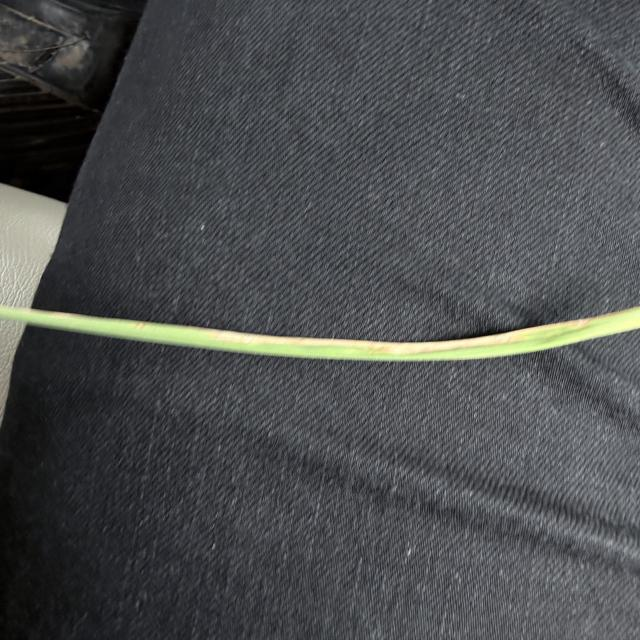Chay bia la: (205, 319, 607, 355)
